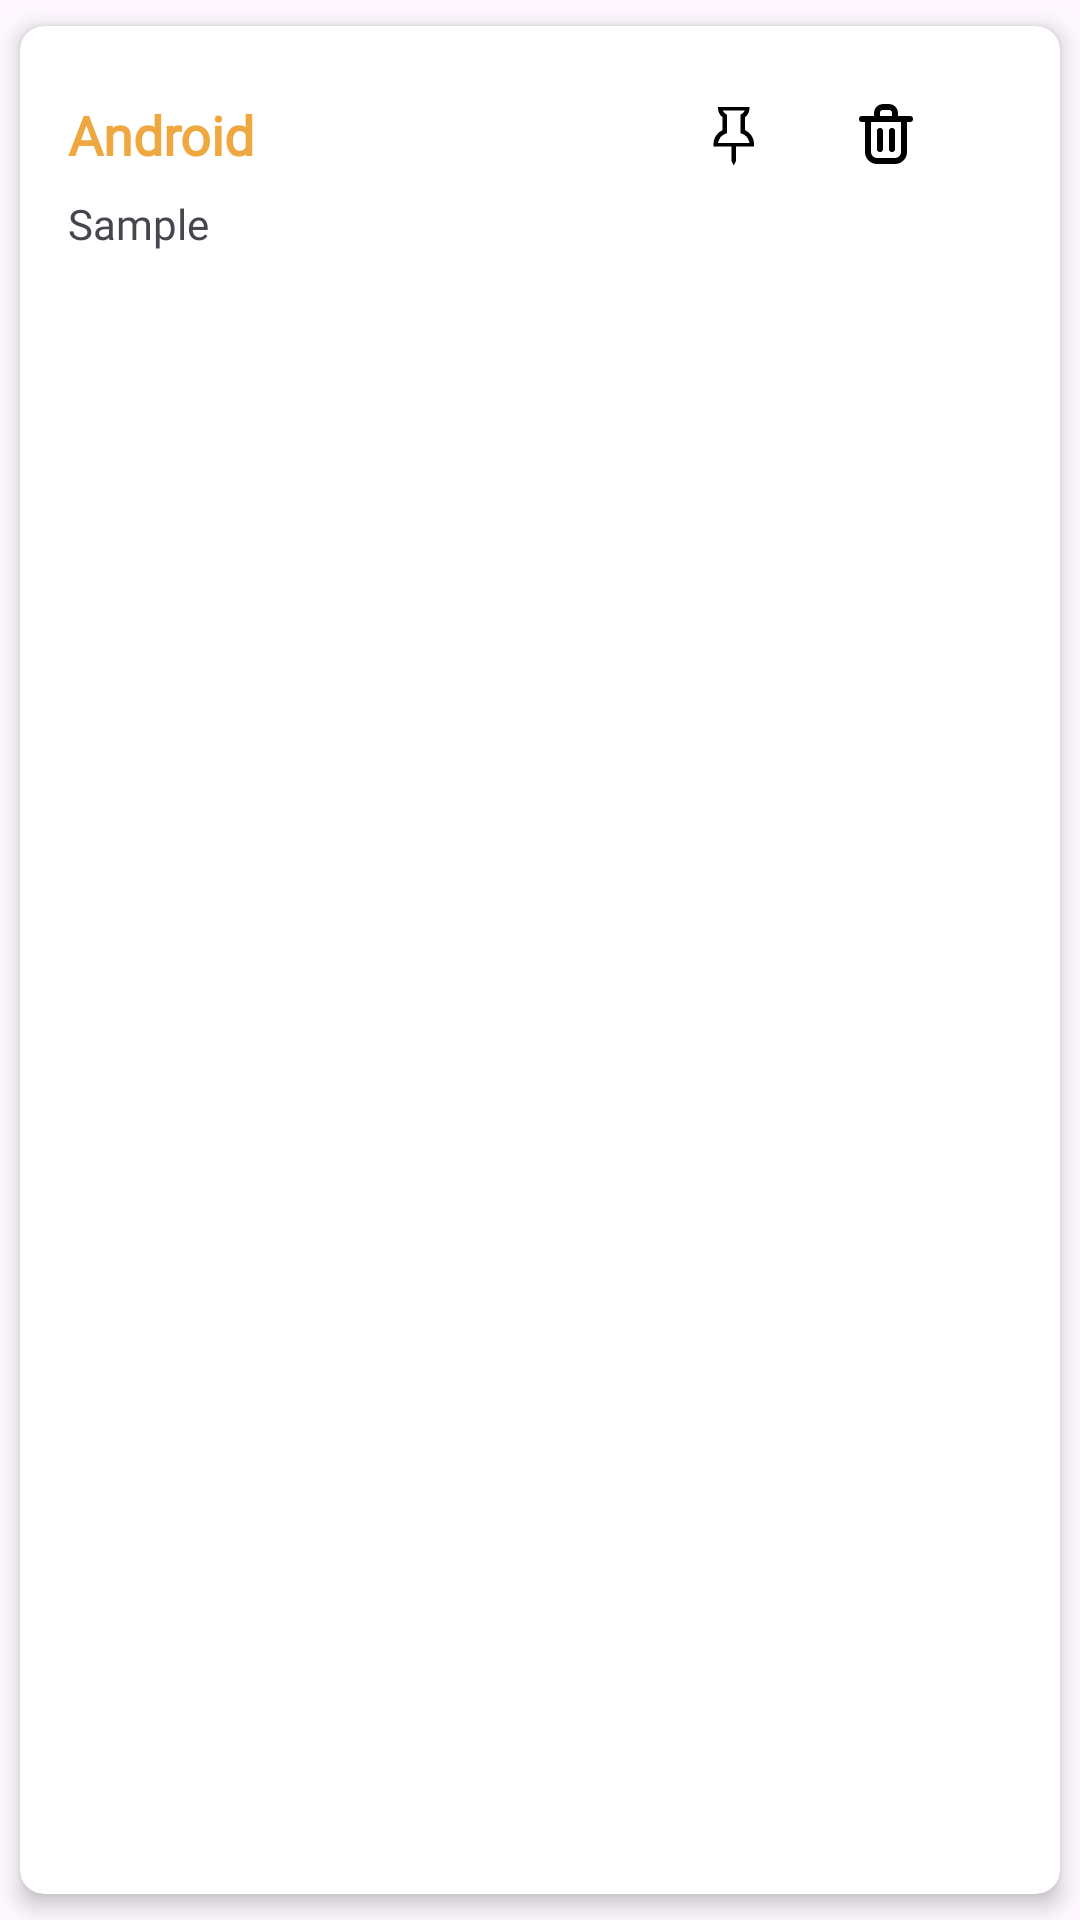

Locate icon controls on the screen. Image size 1080w x 1920h, boxes as [left=x1, top=y1, right=x2, bottom=y2].
delete: [left=859, top=104, right=913, bottom=164]
pinned: [left=713, top=107, right=754, bottom=166]
